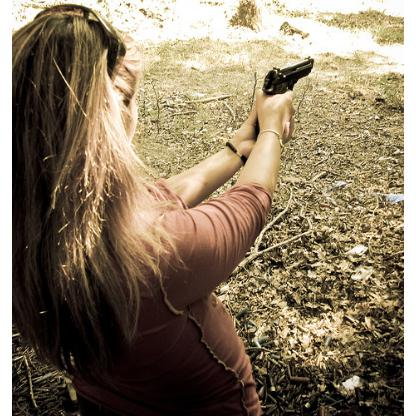gun: (262, 54, 315, 126)
